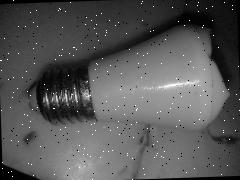lightbulb: (26, 21, 232, 138)
